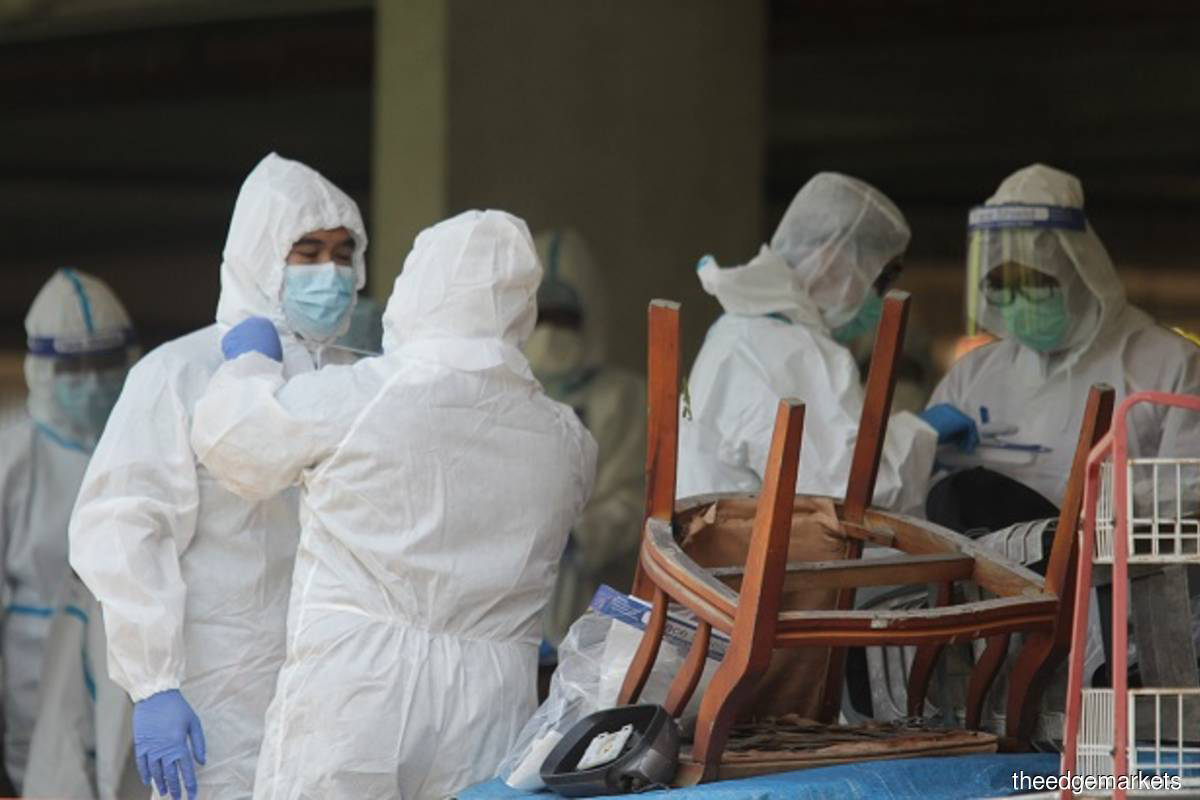Coverall: (204, 205, 608, 800), (71, 150, 375, 800), (929, 168, 1194, 525), (680, 169, 929, 514)
Gloves: (131, 692, 214, 800), (903, 399, 982, 451), (221, 313, 282, 365)
with_mask: (274, 242, 366, 344), (986, 262, 1077, 363)
